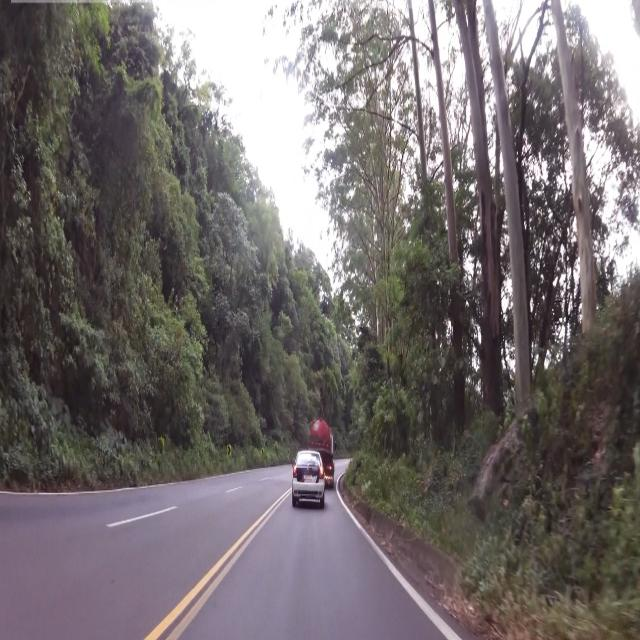Del: (225, 445, 233, 458)
